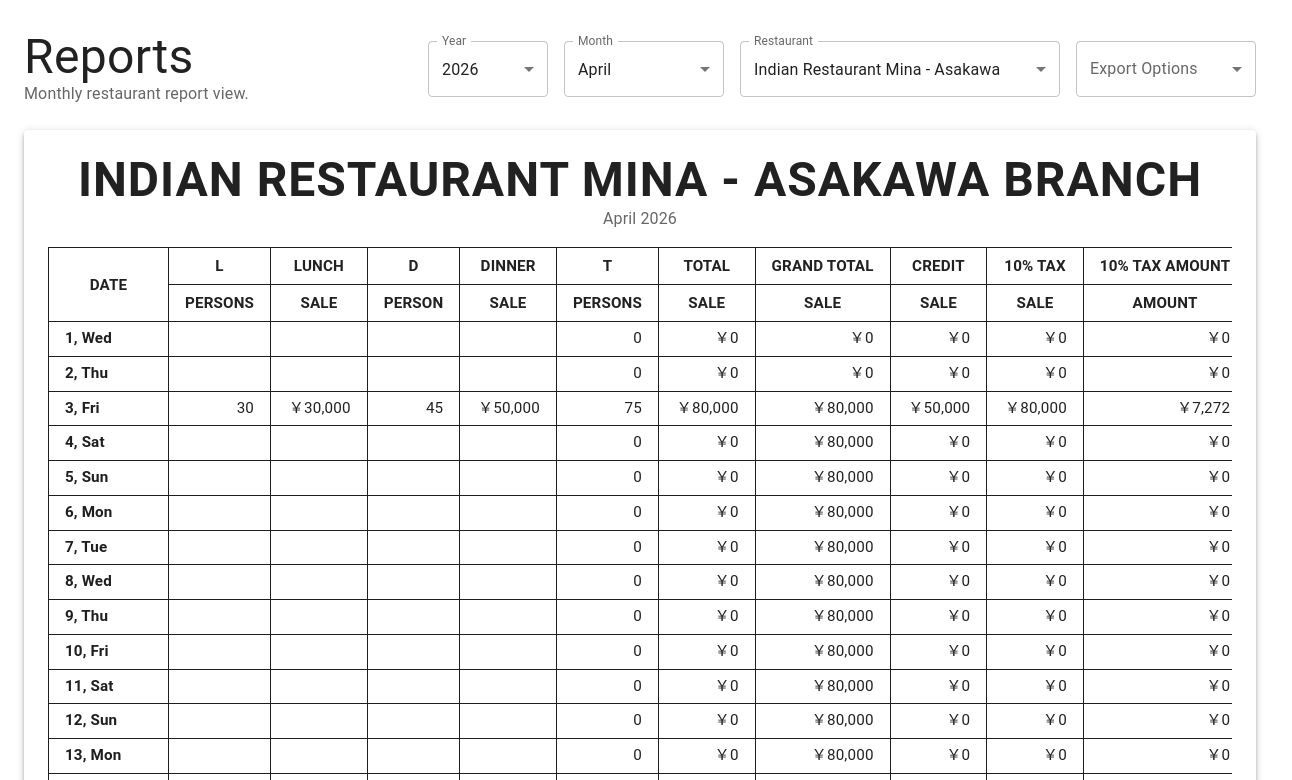
Reports page › renders the monthly grid with the accountant-style columns
The width and height of the screenshot is (1292, 780).
Expected: the text "Monthly restaurant report view." is shown, [24,82,249,106]
Click the dropdown named "month": (595, 69) [578,60,611,79]
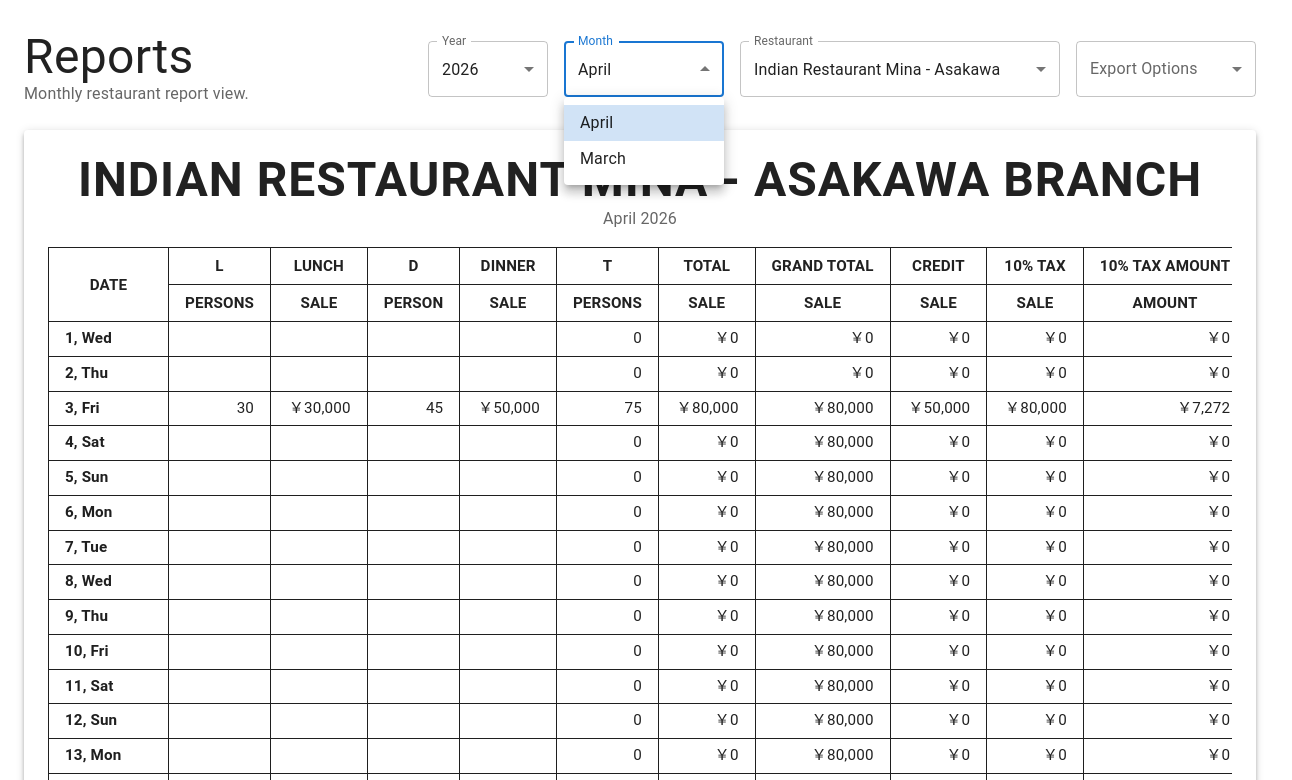
Click the option "March": (603, 158) [580,149,626,168]
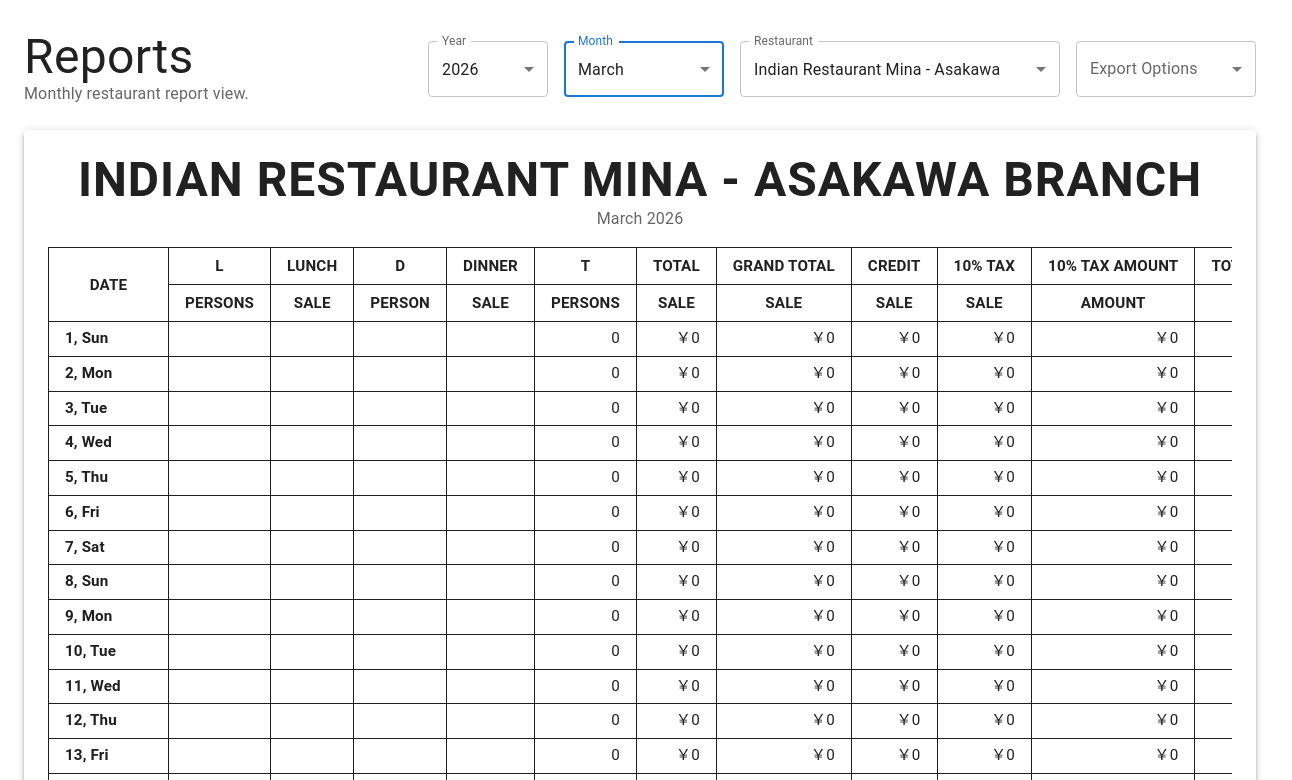
Expected: the column heading "TOTAL" is shown, [636,248,716,285]
Expected: the text "March 2026" is shown, [597,209,683,228]
